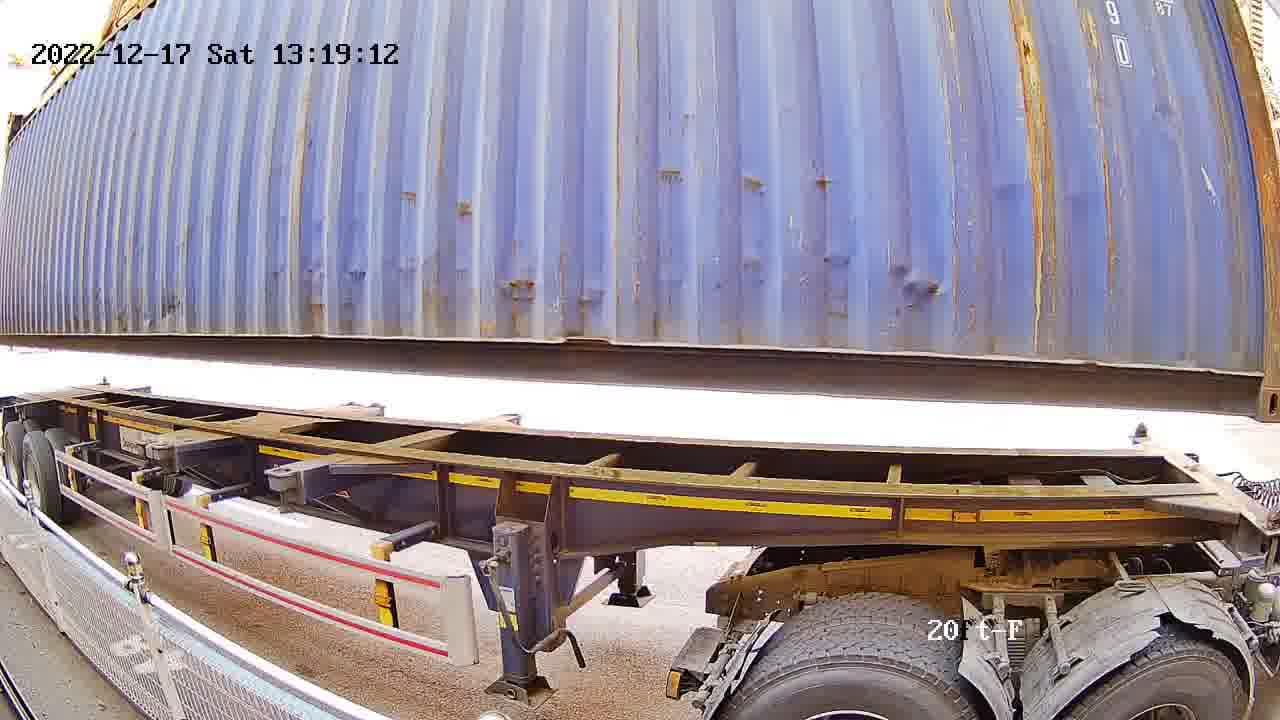Chassis: (1139, 434, 1279, 536)
Cone: (1254, 504, 1279, 565), (1127, 418, 1153, 449)
Hole_R: (1220, 345, 1279, 421)
